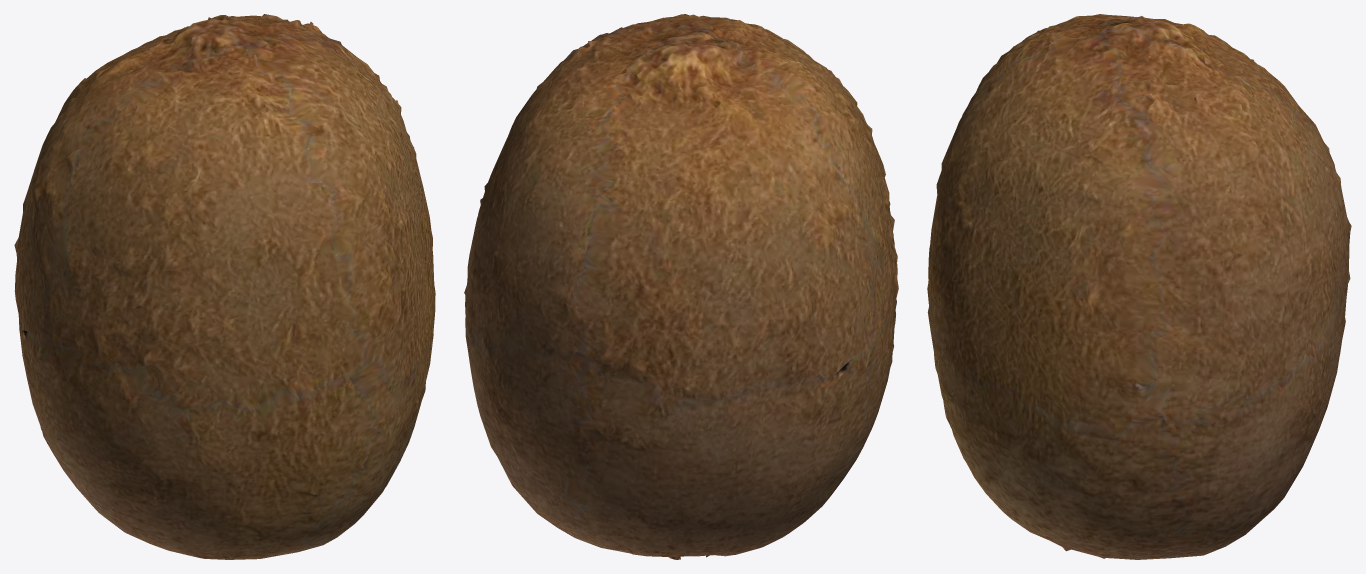
File: kiwi.glb
3 renders of one model, left to right at view 1: azimuth 30°, elevation 25°; view 2: azimuth 150°, elevation 25°; view 3: azimuth 270°, elevation 25°, orthographic.
Parts seen in each view (by area): view 1: food_kiwi_01; view 2: food_kiwi_01; view 3: food_kiwi_01.
Boxes of the visible parts, x1=… form: food_kiwi_01: x1=14, y1=14, x2=435, y2=559; food_kiwi_01: x1=464, y1=14, x2=898, y2=559; food_kiwi_01: x1=927, y1=14, x2=1351, y2=559.
Size of the model in its own units: 0.0695 by 0.0901 by 0.0686.
1 material, 1 textured.
